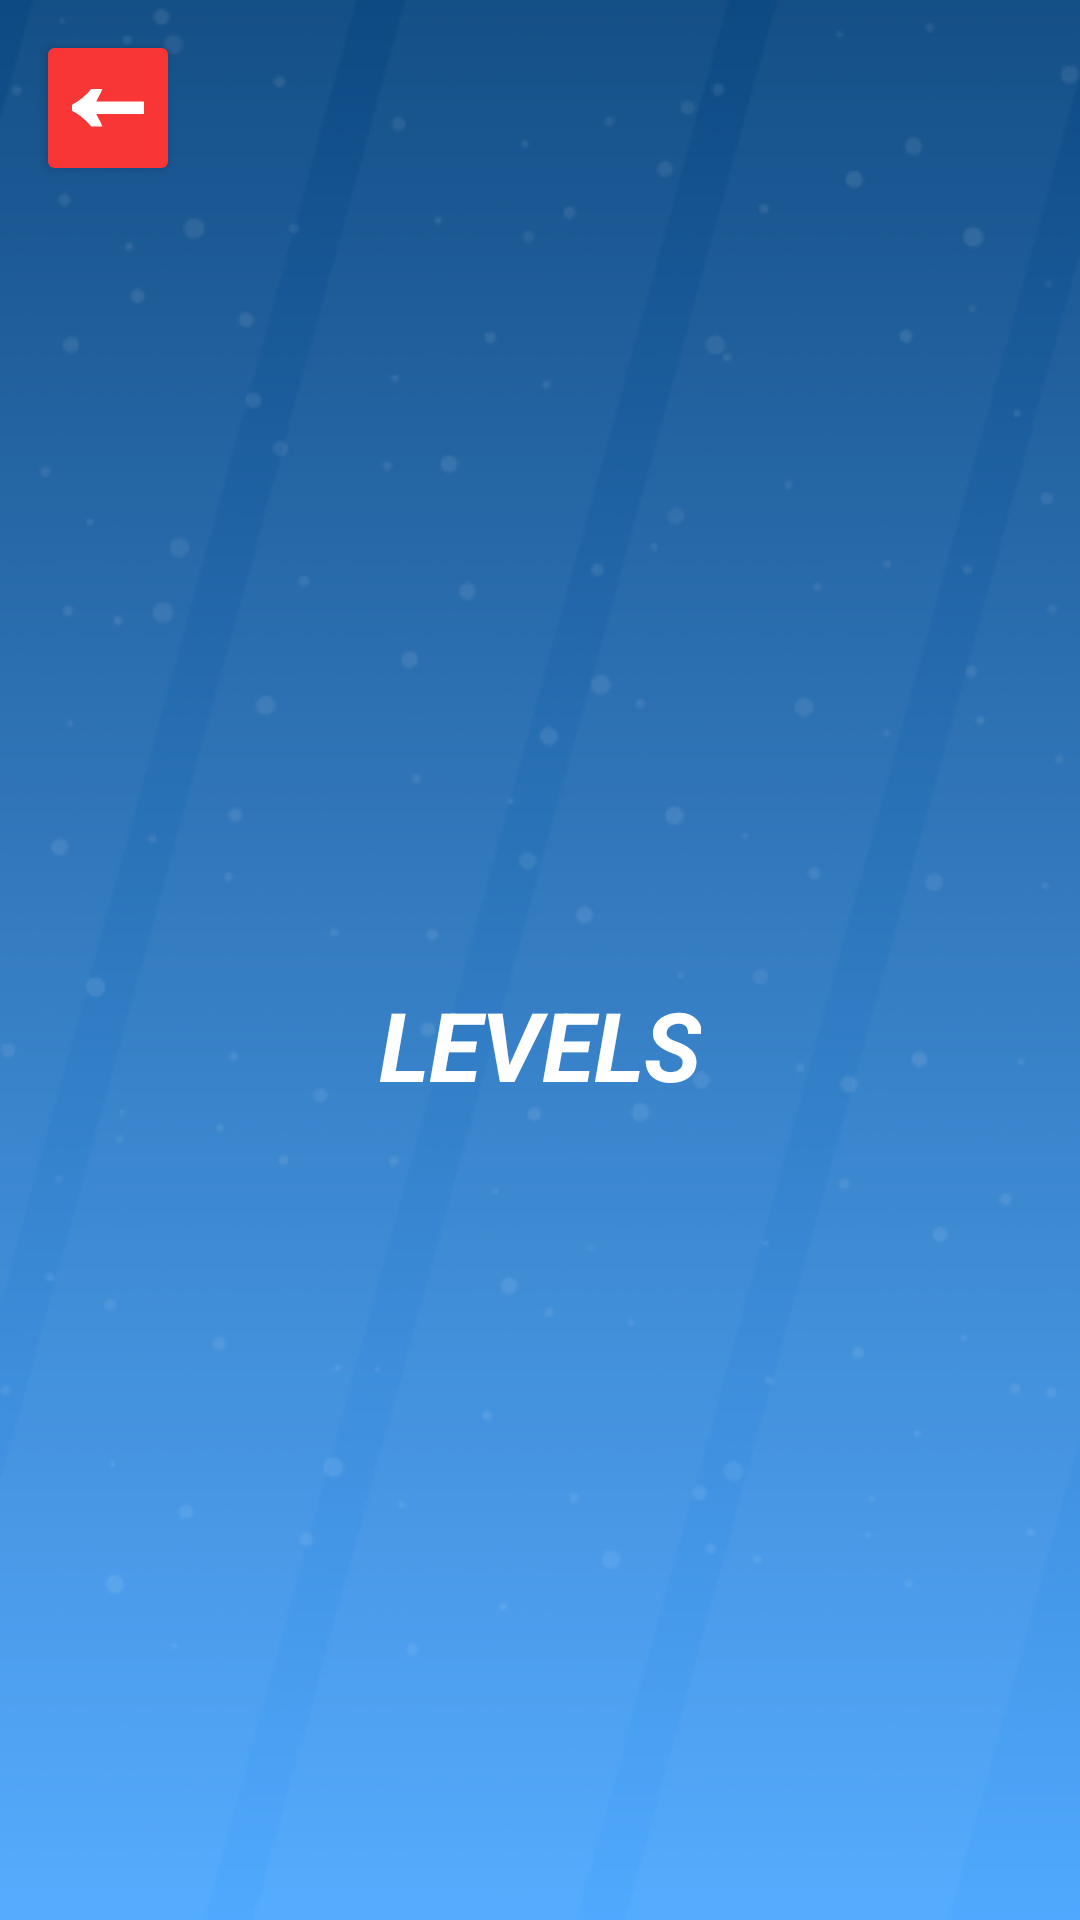

Screen size 1080 x 1920. Icon name, then its center in pixels as [x,y]:
arrow back: [108,108]
